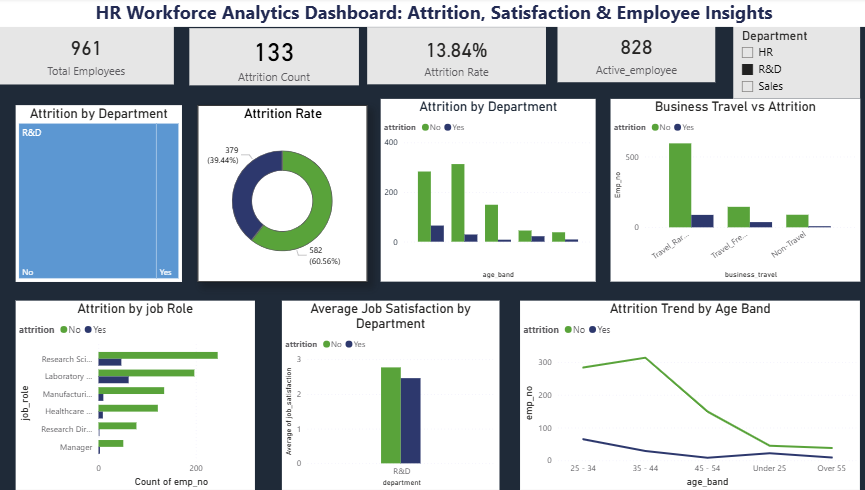

The dashboard page shown, as its layout file describes it:
{"tool":"powerbi","page":{"name":"Page 1","canvas":[1280,720],"ordinal":0},"visuals":[{"type":"card","fields":{"Values":["clean_hr_data.Attrition Rate"]},"box":[538.5,42.6,261.6,83.7],"z":0},{"type":"card","title":"Attrition by department ","fields":{"Values":["CountNonNull(clean_hr_data.emp_no)"]},"box":[0,38,255.5,88.2],"z":1000},{"type":"donutChart","title":"Attrition Rate","fields":{"Category":["clean_hr_data.gender"],"Y":["CountNonNull(clean_hr_data.emp_no)"]},"box":[290.5,156.7,247.9,258.6],"z":2000},{"type":"clusteredBarChart","title":"Attrition by job Role","fields":{"Series":["clean_hr_data.attrition"],"Y":["CountNonNull(clean_hr_data.emp_no)"],"Category":["clean_hr_data.job_role"]},"box":[24.3,442.6,349.9,276.8],"z":3000},{"type":"card","fields":{"Values":["clean_hr_data.Attrition Count"]},"box":[278.4,44.1,247.9,83.7],"z":4000},{"type":"card","fields":{"Values":["Sum(clean_hr_data.active_employee)"]},"box":[816.8,39.5,231.2,83.7],"z":5000},{"type":"treemap","title":"Attrition by Department","fields":{"Group":["clean_hr_data.department"],"Details":["clean_hr_data.attrition"],"Values":["CountNonNull(clean_hr_data.emp_no)"]},"box":[24.3,156.7,243.4,258.6],"z":6000},{"type":"clusteredColumnChart","title":"Attrition by Department","fields":{"Category":["clean_hr_data.age_band"],"Y":["CountNonNull(clean_hr_data.emp_no)"],"Series":["clean_hr_data.attrition"]},"box":[558.2,147.5,314.9,267.7],"z":7000},{"type":"clusteredColumnChart","title":"Average Job Satisfaction by Department","fields":{"Series":["clean_hr_data.attrition"],"Category":["clean_hr_data.department"],"Y":["Avg(clean_hr_data.job_satisfaction)"]},"box":[413.7,442.6,317.9,276.8],"z":8000},{"type":"clusteredColumnChart","title":"Business Travel vs Attrition","fields":{"Category":["clean_hr_data.business_travel"],"Y":["CountNonNull(clean_hr_data.emp_no)"],"Series":["clean_hr_data.attrition"]},"box":[894.4,147.5,365.1,267.7],"z":9000},{"type":"lineChart","title":"Attrition Trend by Age Band","fields":{"Category":["clean_hr_data.age_band"],"Series":["clean_hr_data.attrition"],"Y":["CountNonNull(clean_hr_data.emp_no)"]},"box":[762.1,442.6,497.4,276.8],"z":10000},{"type":"slicer","fields":{"Values":["clean_hr_data.department"]},"box":[1073.9,39.5,185.6,108],"z":10001},{"type":"textbox","box":[0,0,1280.8,42.6],"z":10002}]}

Visuals, with their boxes in screenshot pixels (x1, y1, x2, y2), scaled from the page's 1280x720 canvas onto the 865x490 screenshot:
card - clean_hr_data.Attrition Rate: BBox(364, 29, 541, 86)
"Attrition by department " card: BBox(0, 26, 173, 86)
"Attrition Rate" donutChart: BBox(196, 107, 364, 283)
"Attrition by job Role" clusteredBarChart: BBox(16, 301, 253, 489)
card - clean_hr_data.Attrition Count: BBox(188, 30, 356, 87)
card - Sum(clean_hr_data.active_employee): BBox(552, 27, 708, 84)
"Attrition by Department" treemap: BBox(16, 107, 181, 283)
"Attrition by Department" clusteredColumnChart: BBox(377, 100, 590, 283)
"Average Job Satisfaction by Department" clusteredColumnChart: BBox(280, 301, 494, 489)
"Business Travel vs Attrition" clusteredColumnChart: BBox(604, 100, 851, 283)
"Attrition Trend by Age Band" lineChart: BBox(515, 301, 851, 489)
slicer - clean_hr_data.department: BBox(726, 27, 851, 100)
textbox: BBox(0, 0, 864, 29)
